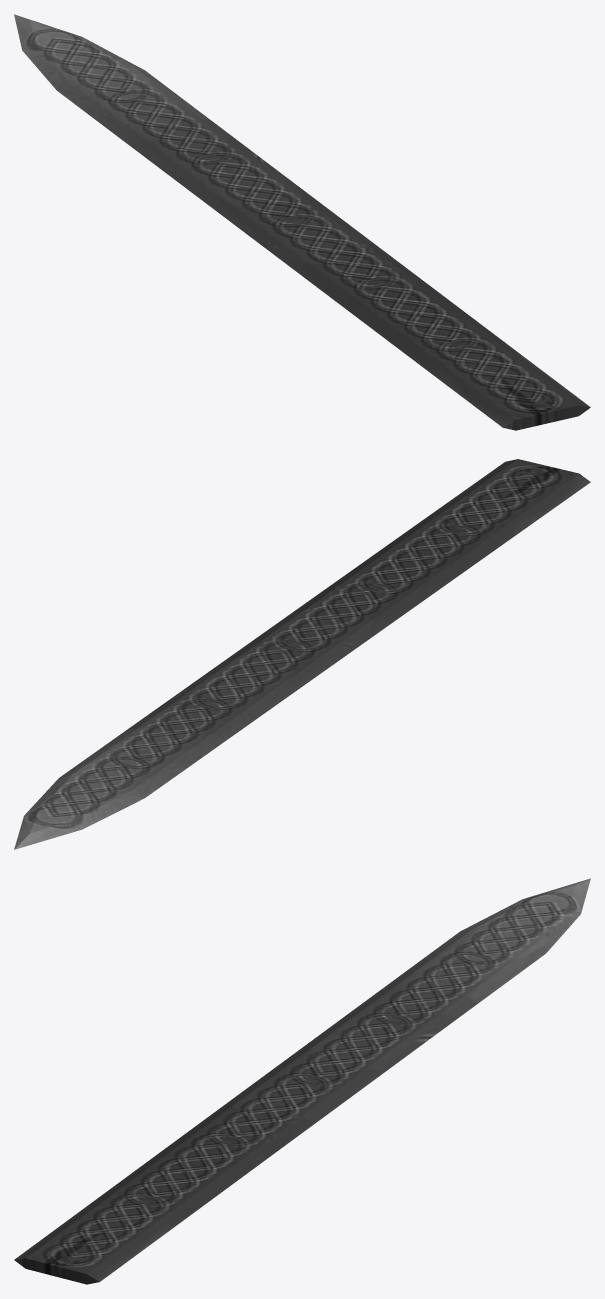
The model's file is swordPart.FBX.
3 renders of one model, top to bottom at view 1: azimuth 30°, elevation 25°; view 2: azimuth 150°, elevation 25°; view 3: azimuth 330°, elevation 25°, orthographic.
Parts seen in each view (by area): view 1: Object415; view 2: Object415; view 3: Object415.
Boxes of the visible parts, x1,y1,x2,y2 form: Object415: (14,14,590,430); Object415: (14,459,590,849); Object415: (14,878,590,1284).
Bounding box in the file's own units: 17.62 × 178 × 3.35.
